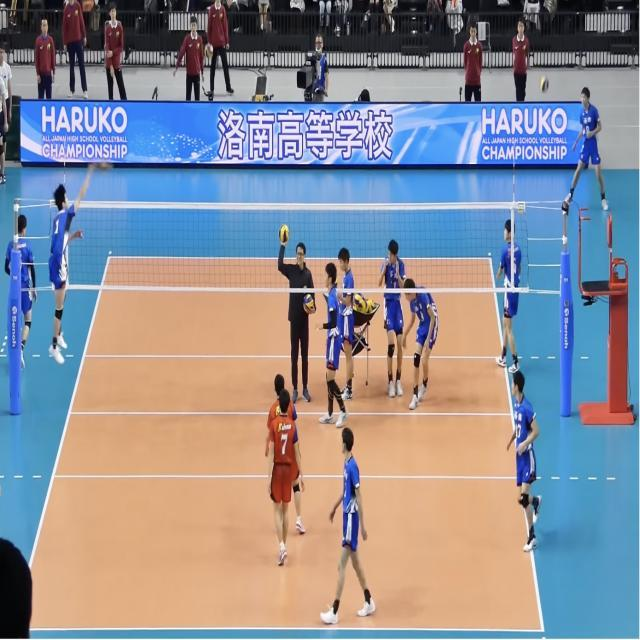spike: (44, 152, 99, 370)
